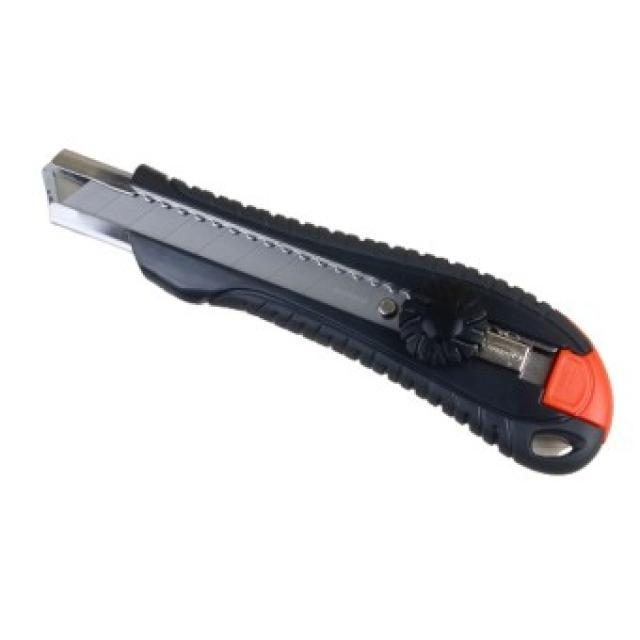cutter: (29, 139, 614, 485)
